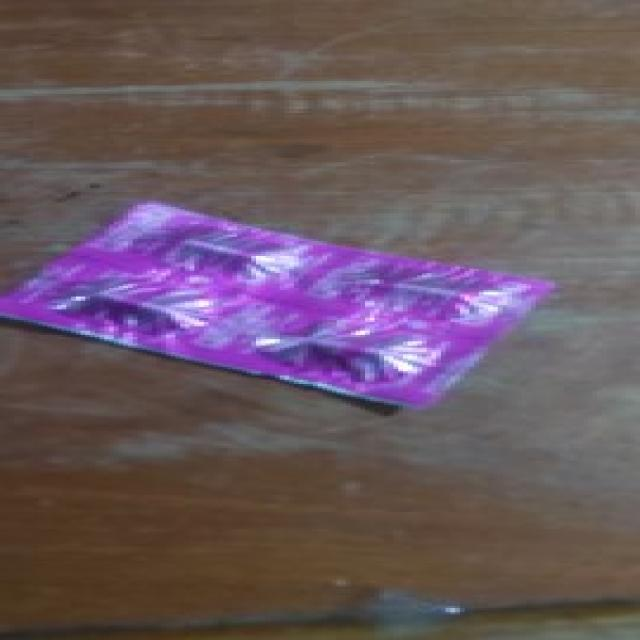Cacat: (22, 200, 560, 409)
